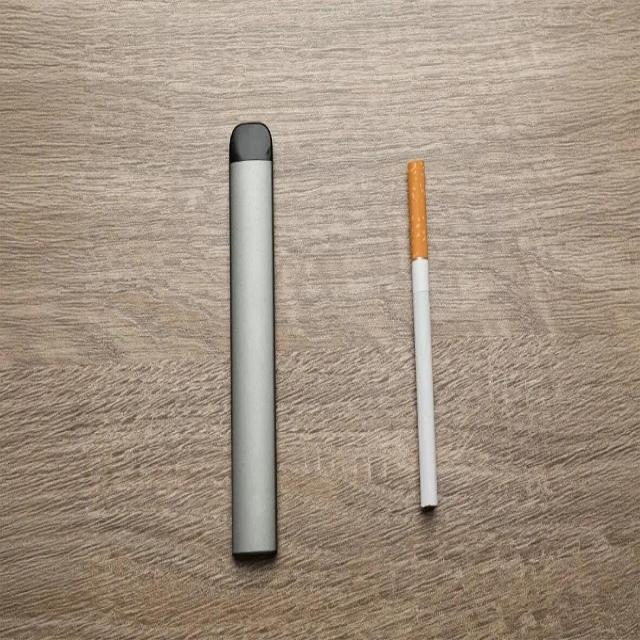cigarette: (407, 160, 437, 514)
